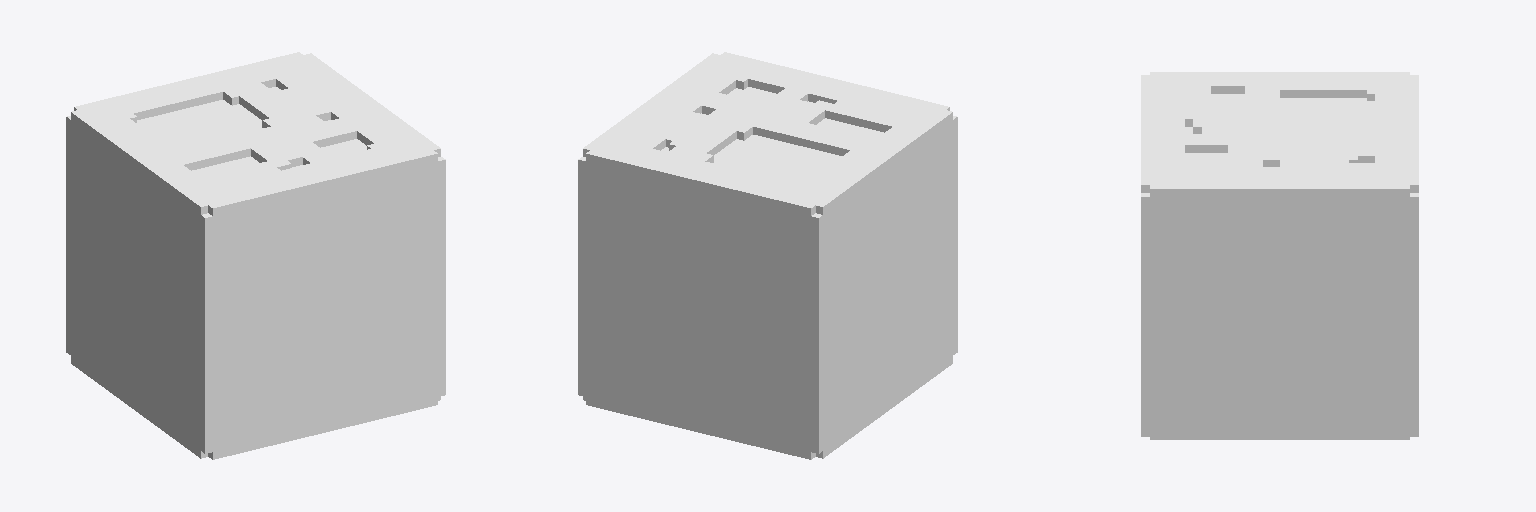
File: waterglass.obj
3 renders of one model, left to right at view 1: azimuth 30°, elevation 25°; view 2: azimuth 150°, elevation 25°; view 3: azimuth 270°, elevation 25°, orthographic.
Parts seen in each view (by area): view 1: object 1; view 2: object 1; view 3: object 1.
Part boxes in pixels (x1,y1,x2,y2): object 1: (66, 52, 445, 459); object 1: (578, 52, 957, 459); object 1: (1141, 72, 1418, 439).
Size of the model in its own units: 3.2 by 3.2 by 3.2.